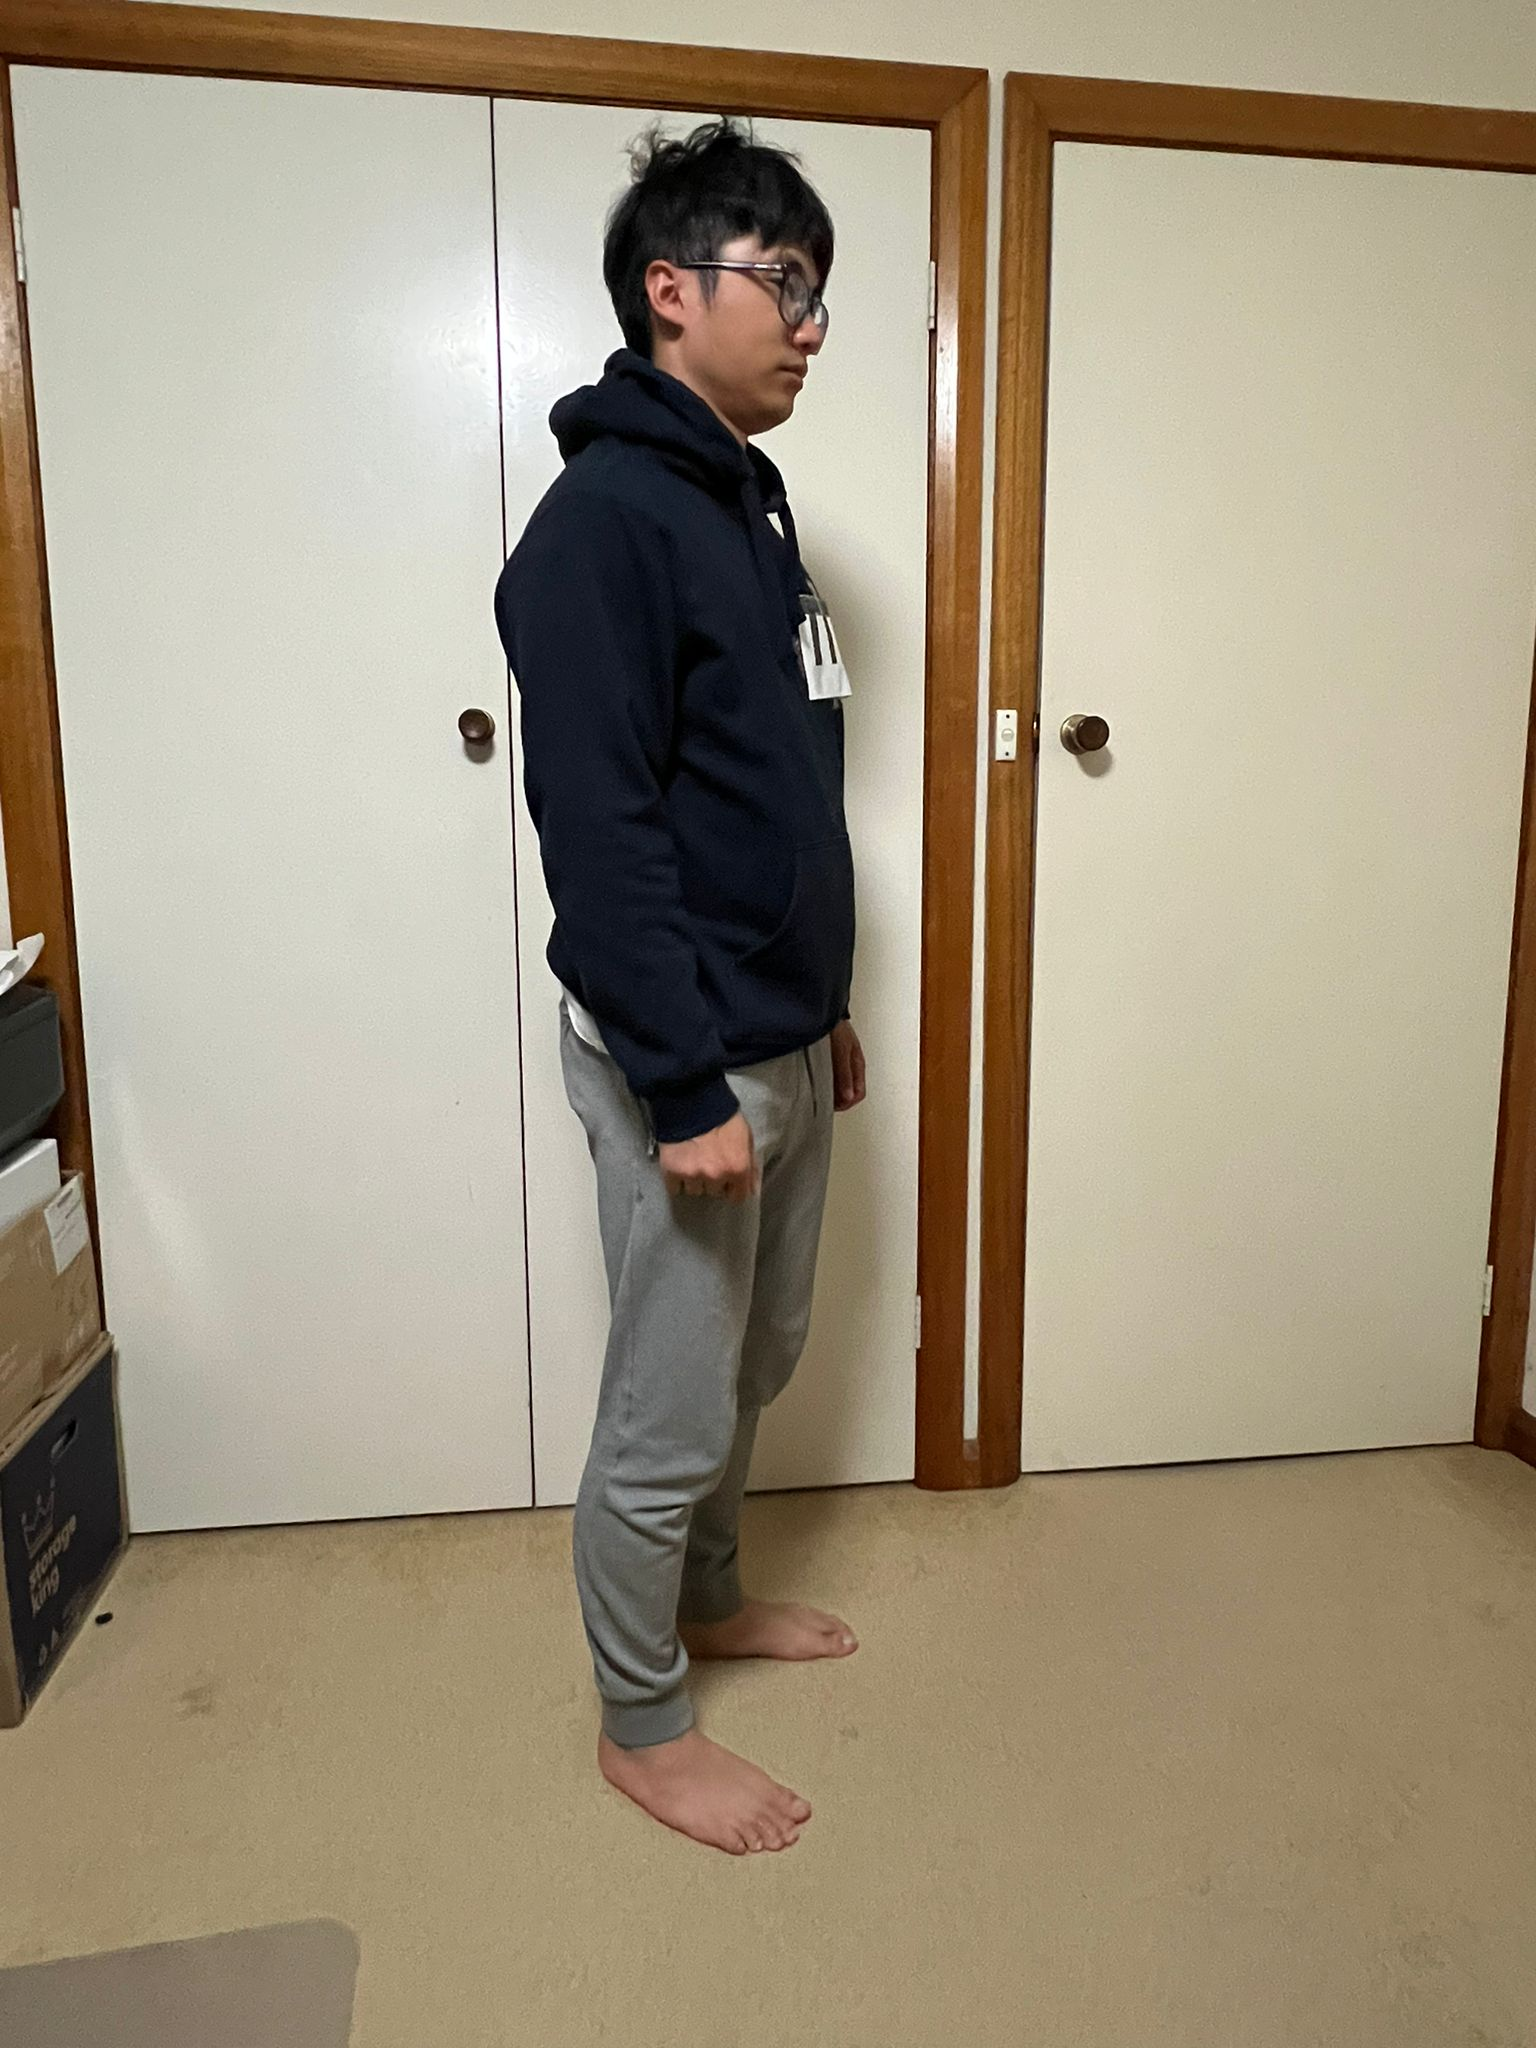Staff: (745, 572, 887, 739)
